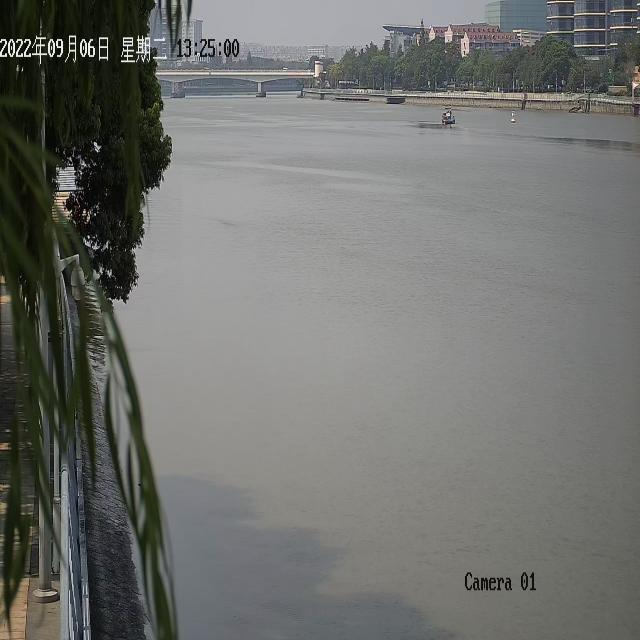ship: (442, 105, 454, 124)
